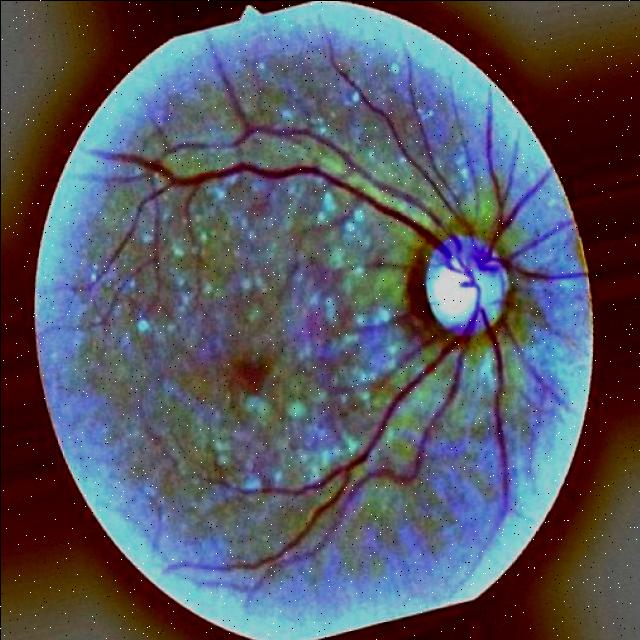Macula: (233, 358, 268, 392)
Nerves: (169, 62, 586, 568), (360, 311, 409, 330), (506, 330, 520, 347), (366, 259, 396, 266)
Optic Disk: (424, 234, 503, 334)
